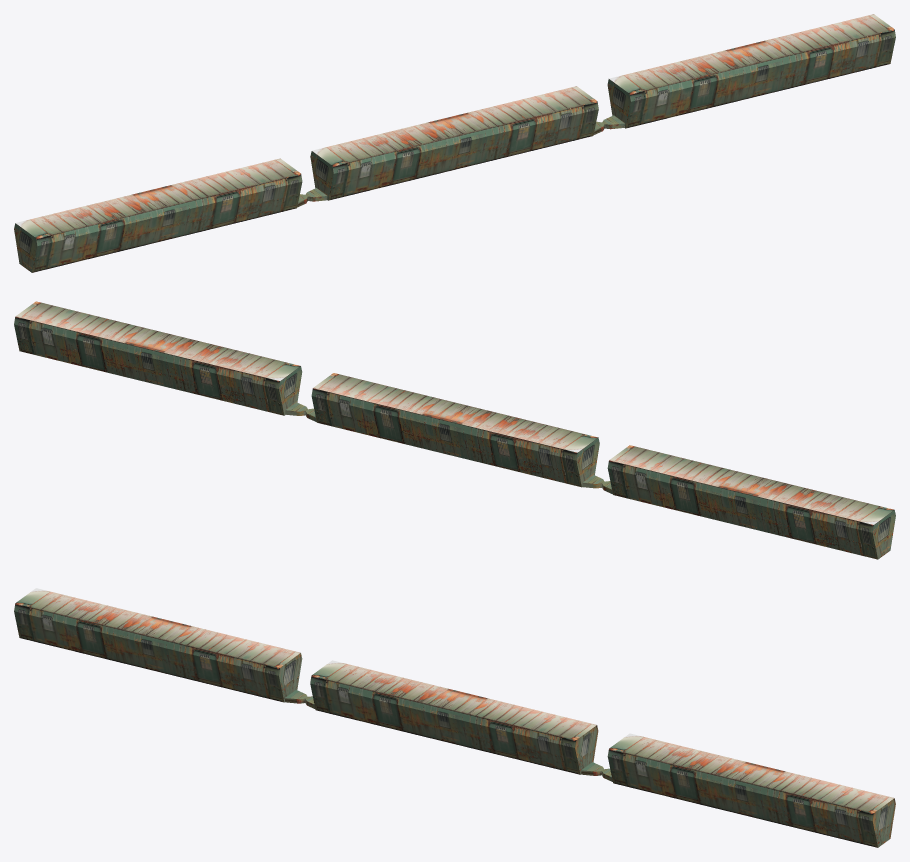
The model's file is TRAIN.fbx.
The picture shows the model from 3 angles, top to bottom: view 1: azimuth 30°, elevation 25°; view 2: azimuth 150°, elevation 25°; view 3: azimuth 330°, elevation 25°; orthographic projection.
Parts seen in each view (by area): view 1: Cube.008; view 2: Cube.008; view 3: Cube.008.
Boxes of the visible parts, x1=… form: Cube.008: x1=14, y1=14, x2=895, y2=272; Cube.008: x1=14, y1=301, x2=895, y2=559; Cube.008: x1=14, y1=588, x2=895, y2=847.
Size of the model in its own units: 68414 by 2930 by 3276.
